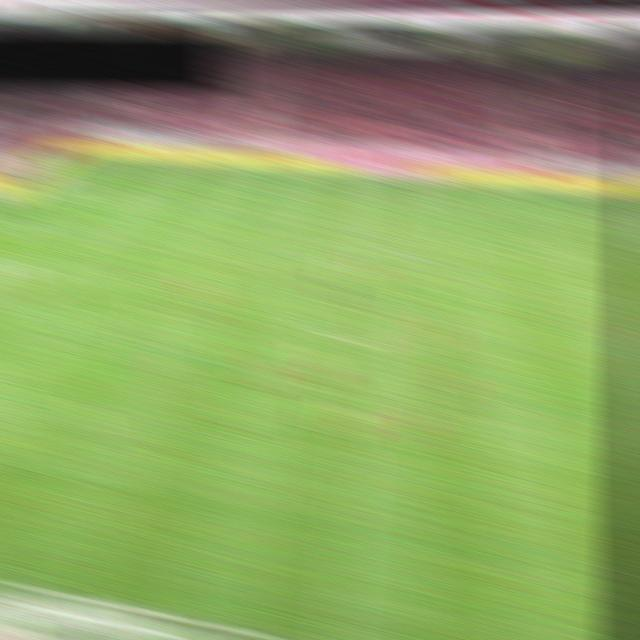bigarea_top_inner: (119, 185, 152, 202)
bigarea_top_outter: (21, 178, 53, 195)
bottom_arc_area_intersection: (9, 285, 41, 302)
corner: (66, 149, 99, 166)
halfcircle_bottom: (351, 335, 383, 352)
halfcircle_top: (360, 241, 392, 258)
midline_bottom_intersection: (320, 636, 353, 640)
midline_top_intersection: (367, 171, 400, 188)
smallarea_top_inner: (8, 210, 41, 228)
top_arc_area_intersection: (76, 223, 108, 241)
